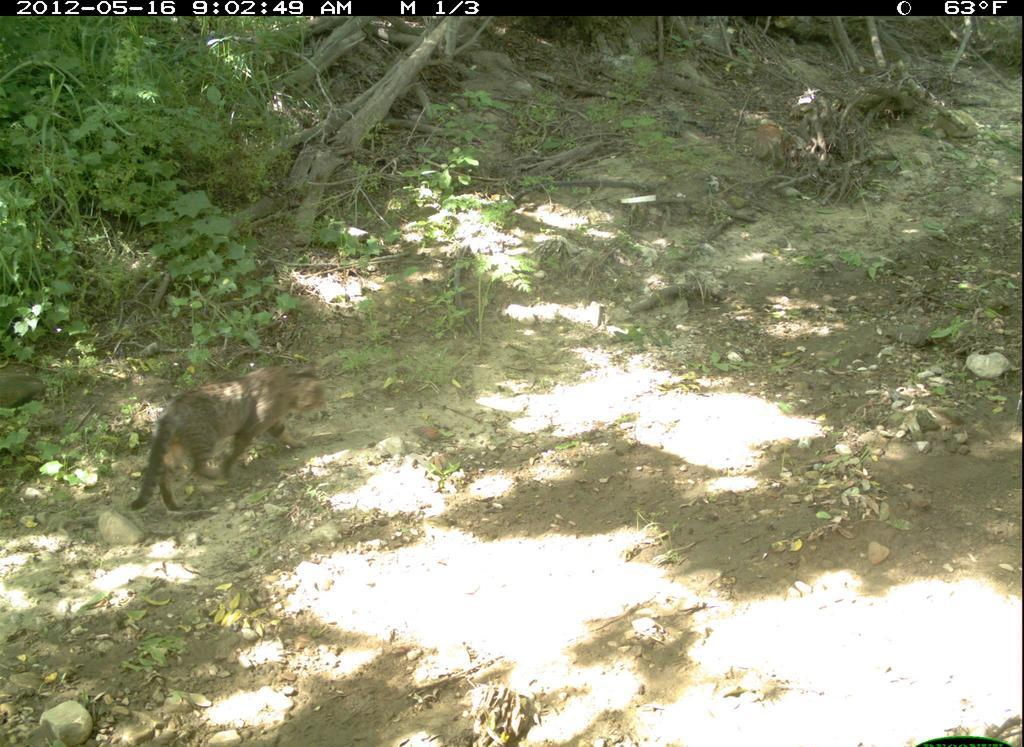cat: (132, 351, 340, 516)
